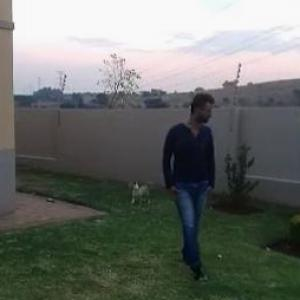follow: (157, 83, 208, 263)
